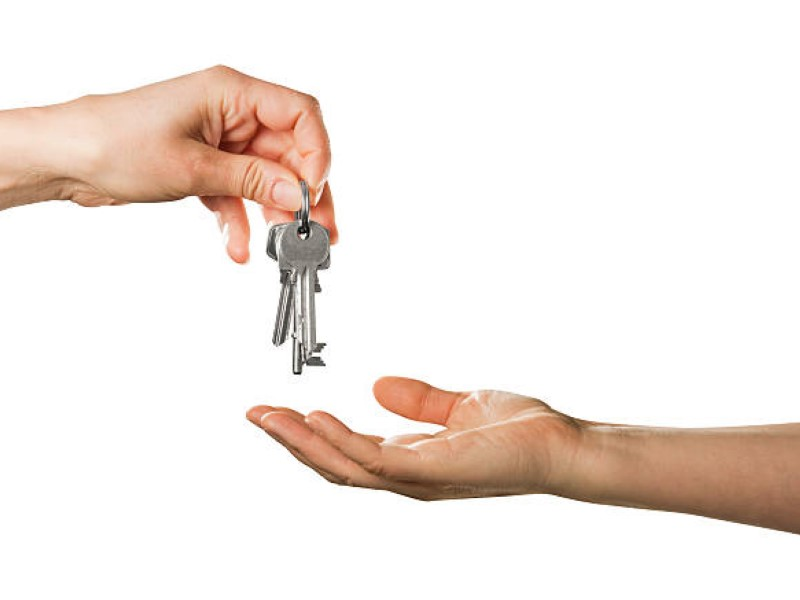key: (263, 217, 333, 380)
